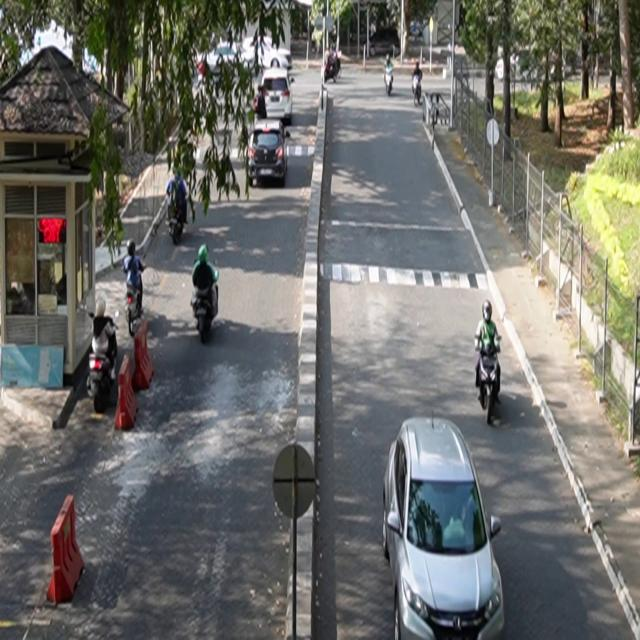car: (383, 414, 506, 640), (247, 120, 290, 188), (257, 69, 295, 126)
